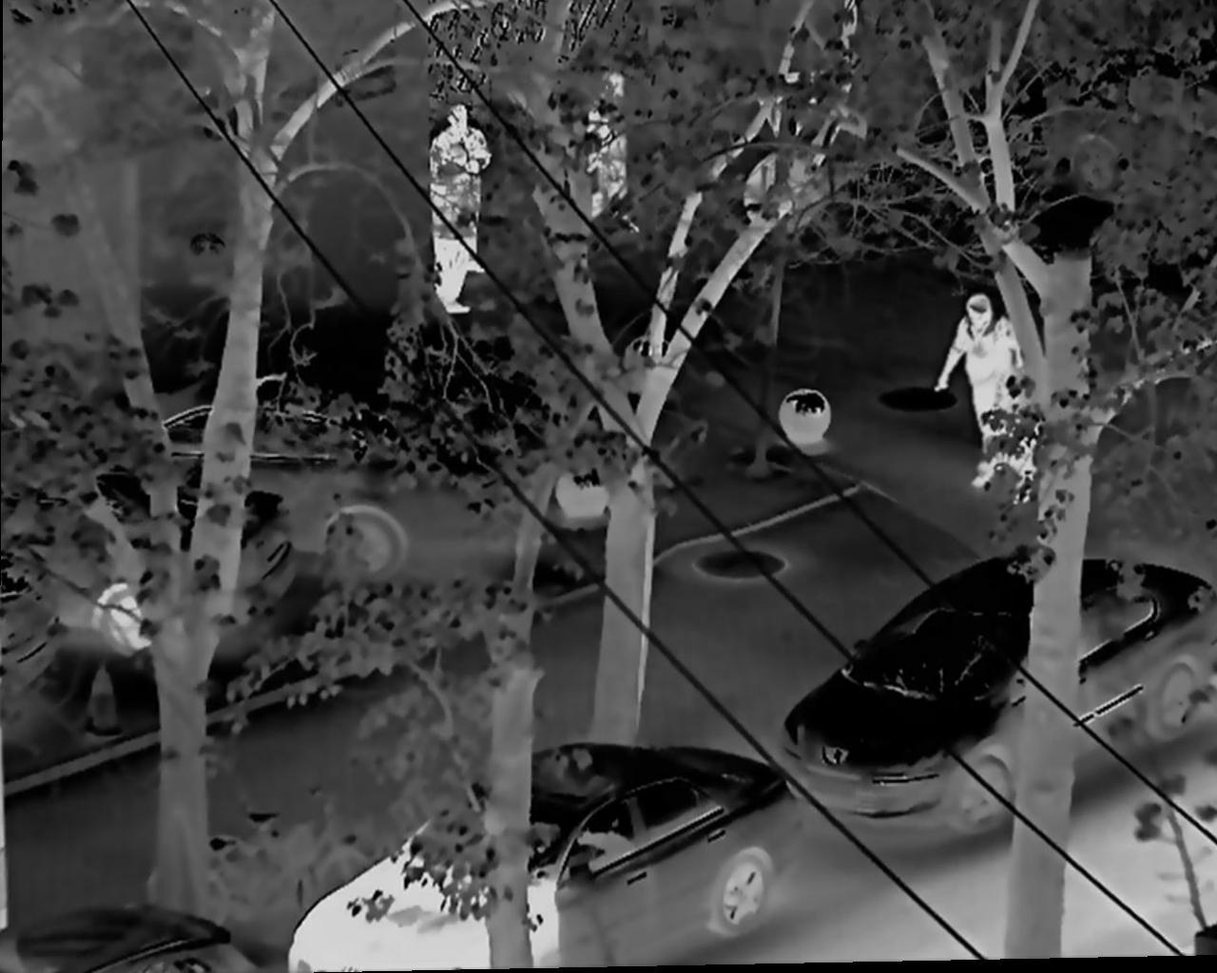person: (934, 294, 1019, 491), (586, 71, 631, 238), (429, 146, 473, 315)
